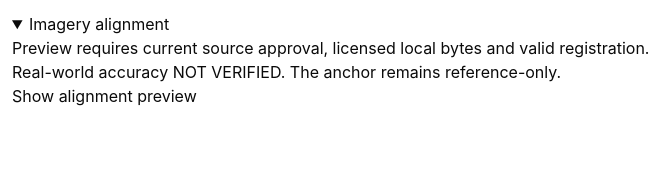
Test case: imagery inspector › IMG-46 invalid asset has localized fallback without a stack trace
Click the button "Show alignment preview". click: coordinates (104, 96)
box: 12,84 -> 197,108
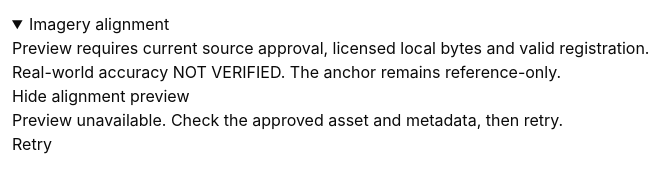
Check: the message shows "Preview unavailable", box 12,110 -> 563,130
Check: the button "Retry" is shown, box 12,132 -> 52,156
